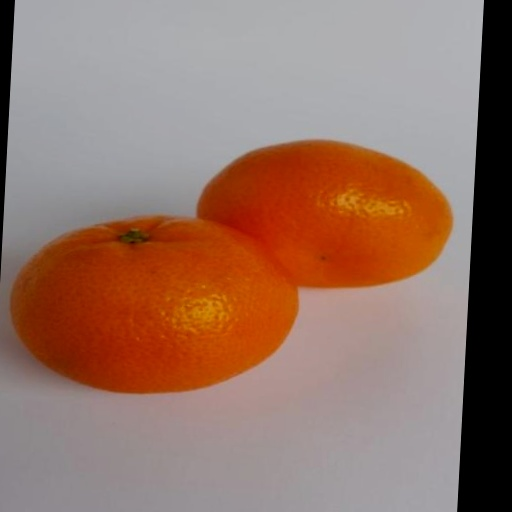fruit: (11, 216, 297, 393), (198, 141, 452, 287)
